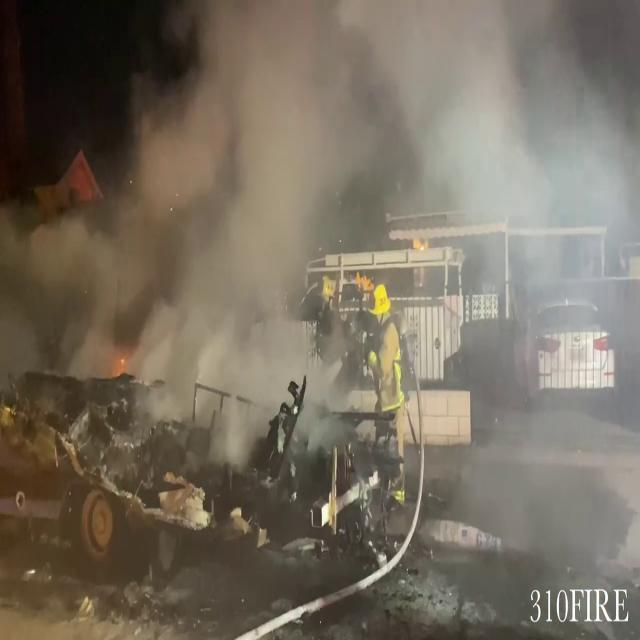Smoke: (62, 1, 640, 440)
